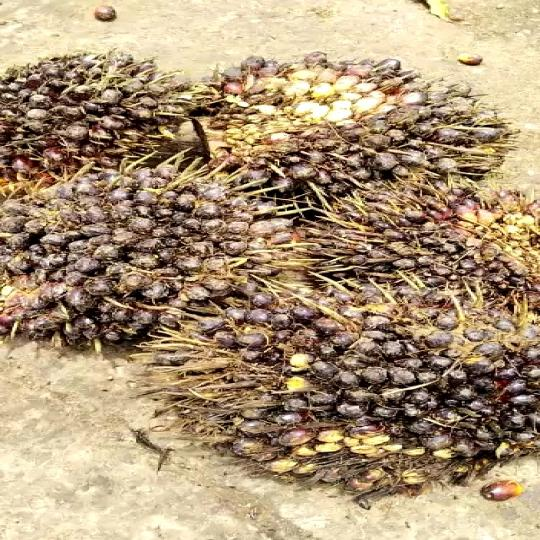mentah: (164, 278, 540, 504), (0, 154, 324, 346), (201, 65, 486, 213), (0, 41, 205, 189)
